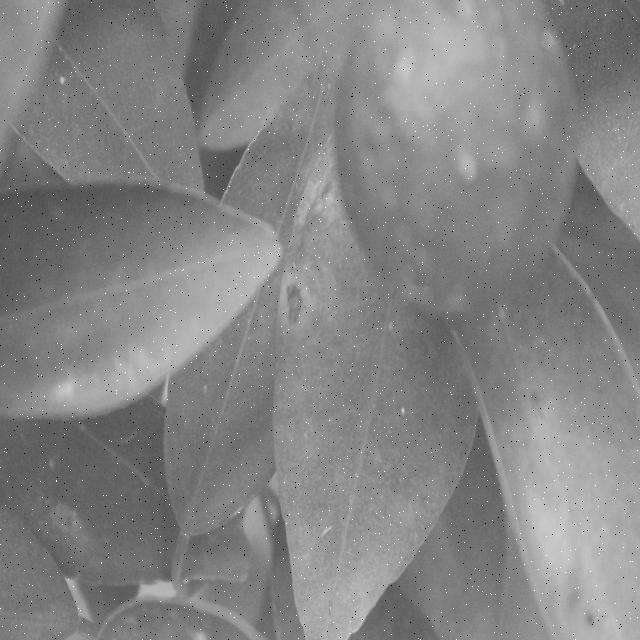canker: (248, 222, 356, 474)
